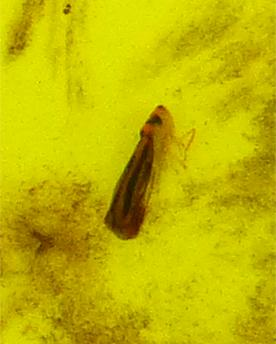Hemiptera: (100, 100, 176, 244)
